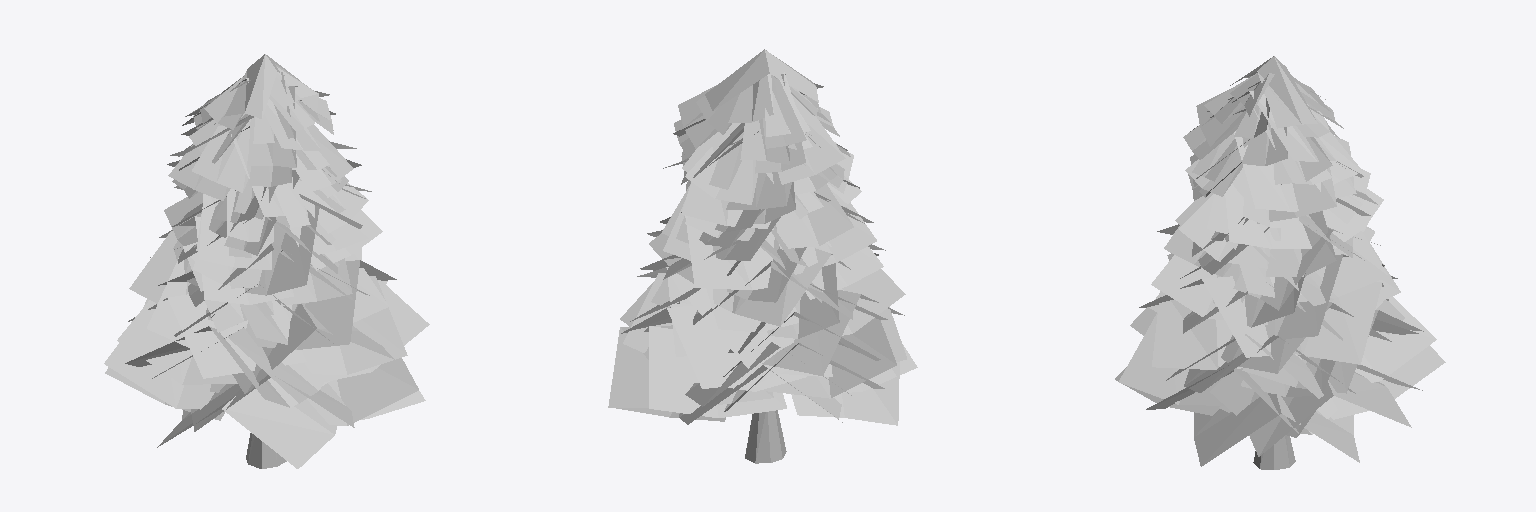
The model's file is tree1.obj.
The picture shows the model from 3 angles: view 1: azimuth 30°, elevation 25°; view 2: azimuth 150°, elevation 25°; view 3: azimuth 270°, elevation 25°; orthographic projection.
Parts seen in each view (by area): view 1: tanne128; view 2: tanne128; view 3: tanne128.
Part boxes in pixels (x1,y1,x2,y2): tanne128: (104,54,429,468); tanne128: (608,49,917,463); tanne128: (1115,56,1445,469).
Size of the model in its own units: 11.69 by 16.77 by 12.41.